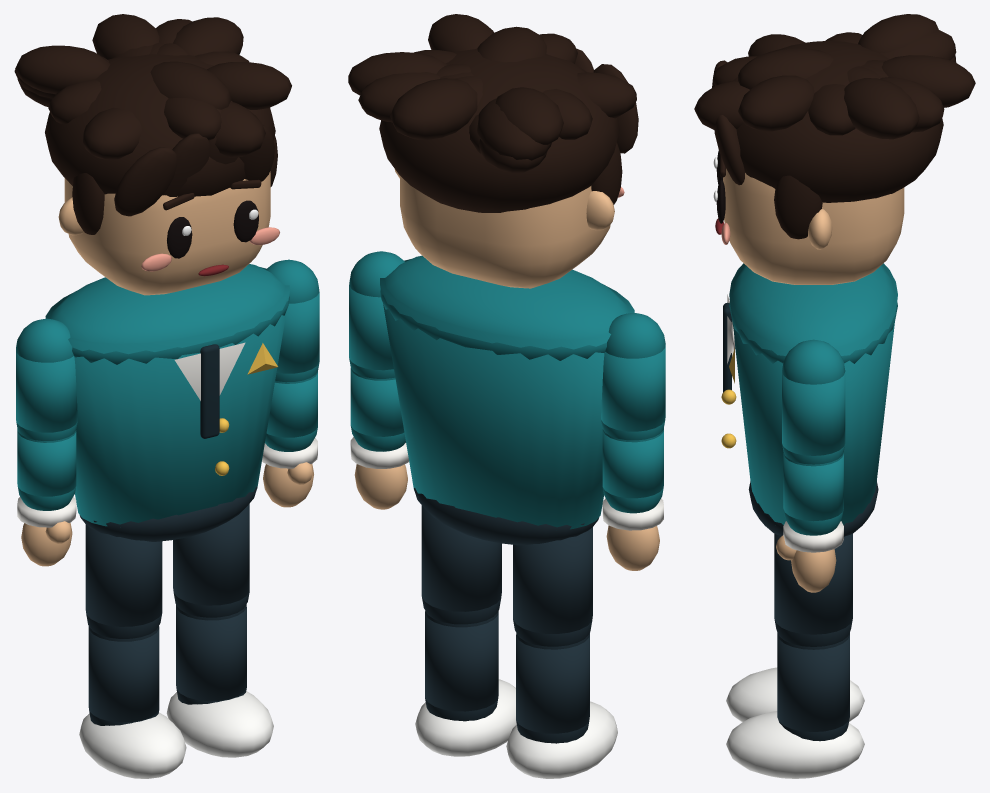
The model's file is arun.glb.
3 renders of one model, left to right at view 1: azimuth 30°, elevation 25°; view 2: azimuth 150°, elevation 25°; view 3: azimuth 270°, elevation 25°, orthographic. The views are drawn at different scales.
Visible parts, largest first — view 1: Cone, Sphere.010, Cube.001, Sphere.028, Cylinder, Cylinder.001, Cylinder.002, Cylinder.003, Sphere.004, Sphere.009, Cylinder.004, Cylinder.005 (+32 smaller); view 2: Cone, Sphere.028, Sphere.010, Cube.001, Cylinder, Cylinder.002, Cylinder.001, Cylinder.003, Cylinder.004, Sphere.004, Sphere.036, Sphere.009 (+30 smaller); view 3: Cone, Sphere.028, Cube.001, Sphere.010, Cylinder.003, Sphere.009, Cylinder.002, Cylinder.007, Sphere.041, Cylinder.008, Sphere.037, Sphere.036 (+21 smaller).
Part boxes in pixels (<box>): Cone: <box>45,267,289,527</box>; Sphere.010: <box>51,264,289,364</box>; Cube.001: <box>64,171,270,295</box>; Sphere.028: <box>45,54,275,196</box>; Cylinder: <box>85,524,162,626</box>; Cylinder.001: <box>88,627,159,722</box>; Cylinder.002: <box>173,504,249,605</box>; Cylinder.003: <box>176,605,246,701</box>; Sphere.004: <box>79,712,186,778</box>; Sphere.009: <box>166,691,273,757</box>; Cylinder.004: <box>16,351,77,432</box>; Cylinder.005: <box>17,430,76,496</box>; Cone: <box>380,259,634,529</box>; Sphere.028: <box>379,48,619,212</box>; Sphere.010: <box>380,255,628,360</box>; Cube.001: <box>400,176,610,288</box>; Cylinder: <box>513,527,592,633</box>; Cylinder.002: <box>421,505,501,611</box>; Cylinder.001: <box>516,633,589,733</box>; Cylinder.003: <box>425,612,498,711</box>; Cylinder.004: <box>601,345,665,431</box>; Sphere.004: <box>506,701,617,778</box>; Sphere.036: <box>390,78,477,139</box>; Sphere.009: <box>415,679,516,756</box>; Cone: <box>729,263,897,525</box>; Sphere.028: <box>736,40,943,202</box>; Cube.001: <box>723,168,904,284</box>; Sphere.010: <box>729,265,897,363</box>; Cylinder.003: <box>777,635,849,731</box>; Sphere.009: <box>726,711,864,778</box>; Cylinder.002: <box>774,533,852,634</box>; Cylinder.007: <box>782,372,845,455</box>; Sphere.041: <box>844,78,919,139</box>; Cylinder.008: <box>783,454,843,521</box>; Sphere.037: <box>738,75,814,131</box>; Sphere.036: <box>881,55,975,107</box>.
Bounding box in the file's own units: 1.15 × 2.56 × 0.9311.
